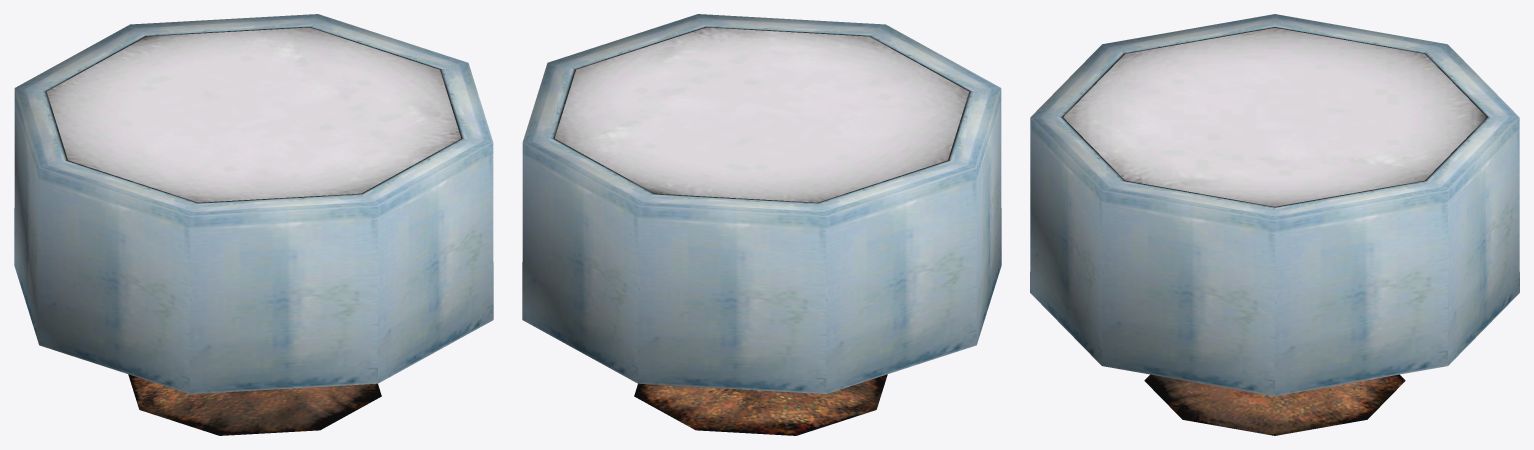
The model's file is thm_frn_table_s01_l2.fbx.
3 renders of one model, left to right at view 1: azimuth 30°, elevation 25°; view 2: azimuth 150°, elevation 25°; view 3: azimuth 270°, elevation 25°, orthographic.
Parts seen in each view (by area): view 1: mesh_node; view 2: mesh_node; view 3: mesh_node.
Boxes of the visible parts, bbox=[...] form: mesh_node: bbox=[14, 14, 493, 435]; mesh_node: bbox=[522, 14, 1001, 435]; mesh_node: bbox=[1030, 14, 1519, 435].
Bounding box in the file's own units: 1.26 × 0.7504 × 1.26.
Materials: 1 (1 with a texture image).
